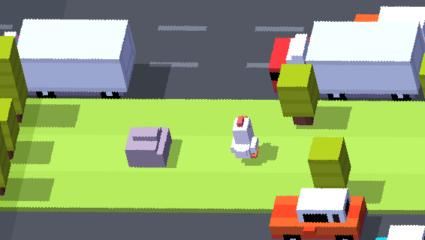hen: (231, 116, 262, 159)
obstacle: (18, 20, 132, 83), (309, 22, 425, 83), (272, 188, 365, 240), (276, 64, 317, 125), (270, 33, 308, 93), (308, 137, 350, 189), (0, 36, 26, 120), (126, 126, 172, 167), (352, 6, 423, 22), (0, 98, 20, 153), (24, 91, 128, 98), (381, 226, 423, 240), (0, 134, 9, 191)
